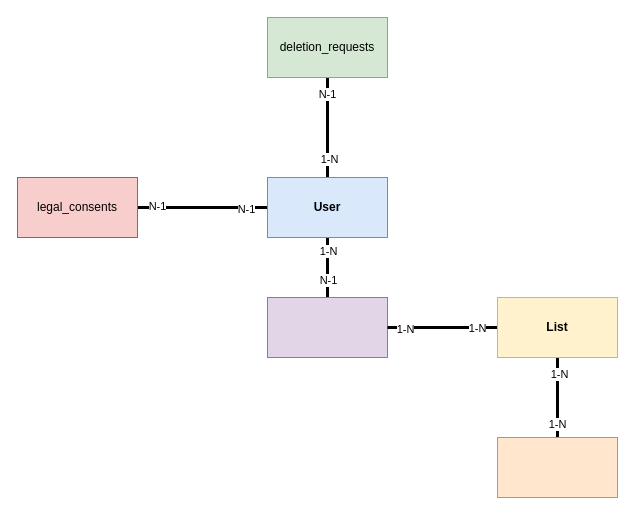
Image size: 635x515. Some labels were removed from this diagram. The centre of each missing label's shape, as x and y in pixels:
Board: [327,327]
task: [557,467]
